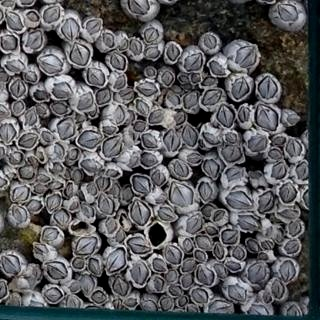Barnacle: (11, 200, 41, 223), (254, 104, 277, 132), (169, 182, 193, 208), (225, 190, 253, 211), (235, 45, 257, 69), (195, 226, 217, 250), (77, 93, 98, 118), (256, 77, 277, 101), (77, 129, 102, 149), (130, 200, 150, 225), (69, 43, 90, 66), (39, 55, 64, 74), (125, 236, 151, 254), (18, 157, 38, 180), (277, 4, 301, 23), (200, 204, 225, 222), (107, 248, 125, 273), (130, 261, 148, 286), (230, 77, 249, 100), (56, 118, 75, 141), (103, 136, 122, 159), (45, 262, 66, 282), (217, 105, 234, 129), (247, 264, 266, 285), (226, 284, 247, 303), (257, 192, 275, 214), (61, 19, 78, 42), (185, 52, 204, 72), (247, 134, 267, 153), (75, 237, 96, 255), (279, 184, 297, 204), (207, 300, 231, 315), (185, 214, 202, 235), (182, 125, 197, 148), (164, 130, 179, 153), (222, 145, 241, 163), (295, 161, 312, 181), (130, 177, 150, 194), (165, 245, 182, 265), (196, 267, 213, 287), (52, 83, 73, 99), (0, 124, 16, 145), (98, 193, 114, 214), (80, 275, 95, 297), (87, 68, 105, 86), (43, 6, 60, 25), (25, 31, 42, 50), (135, 82, 158, 96), (237, 216, 260, 230), (202, 90, 222, 106), (112, 276, 128, 296), (127, 0, 149, 14), (280, 260, 294, 282), (6, 11, 22, 30), (10, 79, 26, 98), (182, 91, 198, 110), (18, 133, 37, 149), (3, 255, 19, 274), (43, 288, 63, 303), (246, 306, 269, 319), (221, 230, 239, 246), (286, 139, 301, 158), (204, 159, 219, 178), (198, 181, 211, 202), (86, 18, 102, 35), (0, 35, 17, 51), (270, 163, 287, 179), (11, 186, 28, 202), (110, 53, 125, 71), (97, 87, 112, 105), (139, 153, 158, 167), (271, 280, 284, 300), (142, 134, 159, 149), (225, 168, 242, 183), (158, 207, 175, 222), (81, 160, 102, 172), (90, 290, 108, 304), (40, 228, 59, 241), (209, 61, 225, 76), (148, 110, 164, 125), (174, 162, 190, 177), (65, 296, 80, 312), (237, 107, 250, 125), (140, 300, 158, 313), (4, 61, 25, 72), (25, 108, 37, 127), (105, 216, 117, 235), (202, 35, 217, 50), (150, 171, 165, 186), (95, 176, 110, 191), (144, 27, 158, 43), (54, 209, 68, 225), (102, 32, 115, 49), (203, 132, 220, 145), (213, 244, 225, 262), (88, 258, 100, 276), (135, 101, 149, 116), (8, 152, 23, 166), (285, 240, 299, 255), (130, 40, 143, 56), (166, 45, 178, 62), (46, 195, 60, 209), (160, 71, 173, 86), (119, 88, 134, 101), (81, 203, 94, 218), (153, 258, 166, 273), (108, 182, 120, 198), (289, 221, 301, 237), (6, 295, 20, 308), (160, 298, 173, 312), (113, 75, 125, 90), (113, 107, 123, 125), (40, 131, 55, 143), (267, 149, 282, 161), (153, 276, 165, 291), (119, 214, 130, 230), (51, 104, 68, 114), (86, 182, 96, 199), (123, 185, 133, 202), (280, 211, 297, 221), (28, 299, 45, 309), (182, 260, 195, 273), (247, 239, 259, 253), (232, 246, 244, 260), (165, 269, 177, 283), (145, 47, 160, 58), (186, 153, 201, 164), (33, 245, 48, 256), (63, 181, 73, 197), (225, 261, 241, 271), (13, 101, 25, 114), (173, 112, 185, 125), (287, 307, 300, 319), (26, 12, 40, 23), (33, 90, 47, 101), (126, 154, 137, 168), (118, 36, 128, 51), (200, 77, 215, 87), (55, 144, 64, 160), (285, 114, 298, 125), (215, 265, 226, 278), (272, 136, 286, 146), (274, 230, 284, 244), (182, 239, 192, 253), (182, 274, 192, 288), (262, 290, 272, 304), (48, 181, 63, 190), (225, 132, 237, 143), (154, 193, 166, 204), (73, 258, 84, 270), (24, 72, 37, 82), (167, 94, 177, 107), (102, 125, 115, 135), (36, 174, 49, 184), (260, 241, 273, 251), (168, 286, 181, 296), (116, 230, 125, 244), (67, 149, 78, 160), (194, 251, 205, 262), (133, 122, 145, 132), (72, 170, 82, 182), (68, 283, 79, 293), (125, 112, 134, 124), (50, 165, 62, 174), (250, 172, 262, 181), (124, 298, 136, 307), (1, 1, 14, 9), (34, 186, 47, 194), (33, 267, 41, 280), (191, 74, 201, 84), (35, 107, 46, 116), (178, 296, 187, 307), (113, 300, 122, 311), (178, 75, 190, 83), (106, 170, 118, 178), (187, 307, 197, 316), (171, 85, 182, 93), (265, 227, 273, 238), (78, 190, 85, 202), (146, 68, 155, 77), (0, 72, 9, 81), (259, 253, 268, 262), (69, 202, 79, 210), (0, 147, 4, 159)
